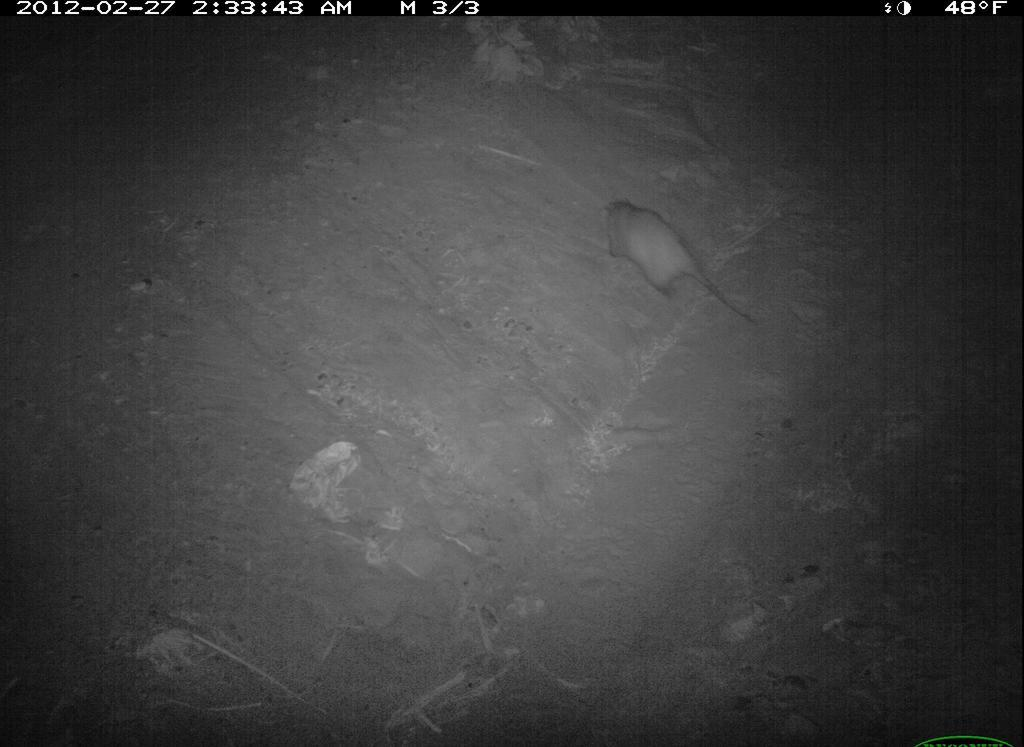opossum: (602, 200, 758, 328)
